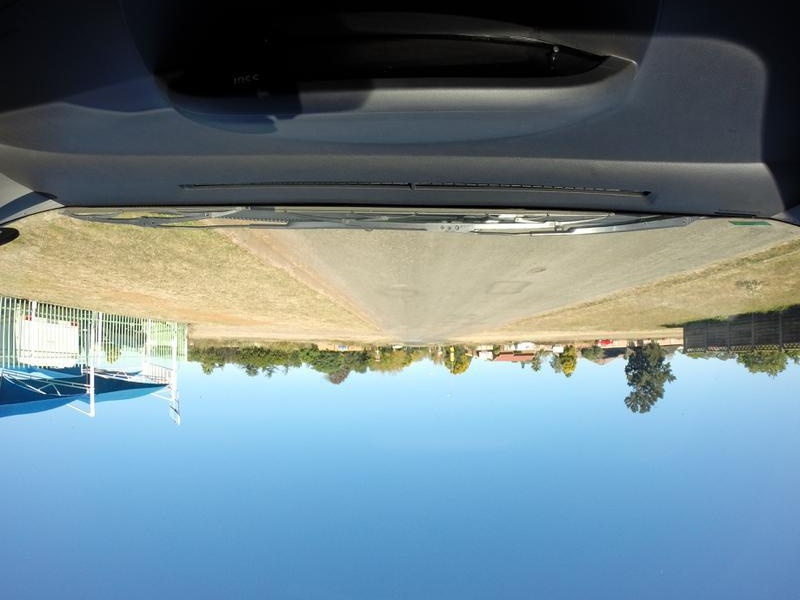pothole: (523, 256, 564, 282)
